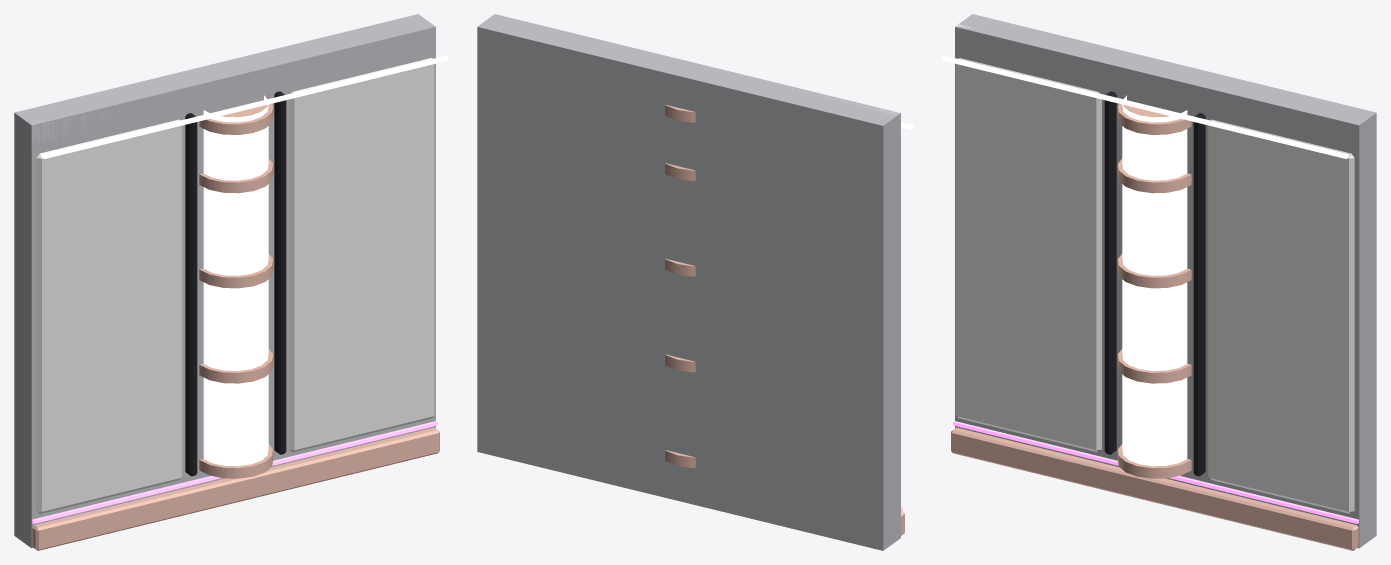
File: wall_column.glb
3 views of the same model, side by side, from view 1: azimuth 30°, elevation 25°; view 2: azimuth 150°, elevation 25°; view 3: azimuth 330°, elevation 25° (orthographic).
Parts seen in each view (by area): view 1: wall_column; view 2: wall_column; view 3: wall_column.
Part boxes in pixels (x1,y1,x2,y2): wall_column: [14, 14, 448, 550]; wall_column: [477, 14, 913, 550]; wall_column: [942, 14, 1376, 550].
Bounding box in the file's own units: 4 × 4 × 0.68.
